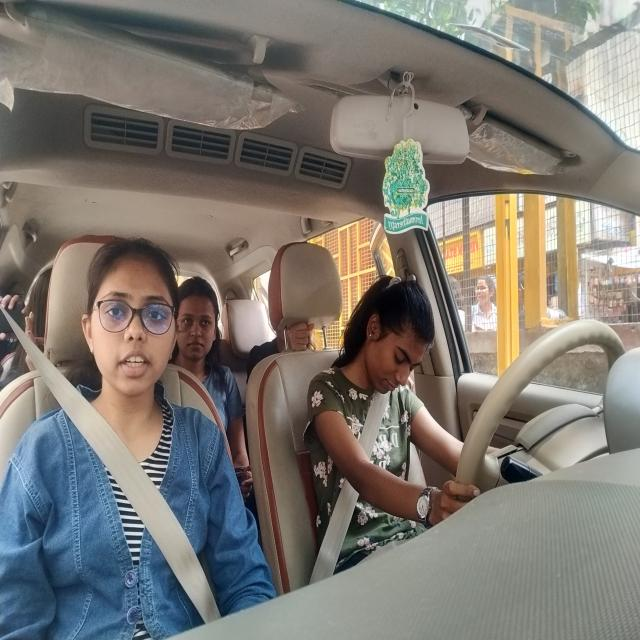drowsy: (354, 276, 444, 434)
person: (82, 230, 181, 408), (170, 257, 224, 373)
